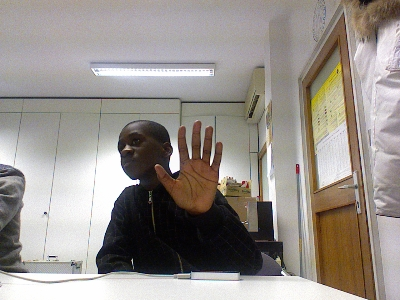布: (152, 119, 223, 214)
